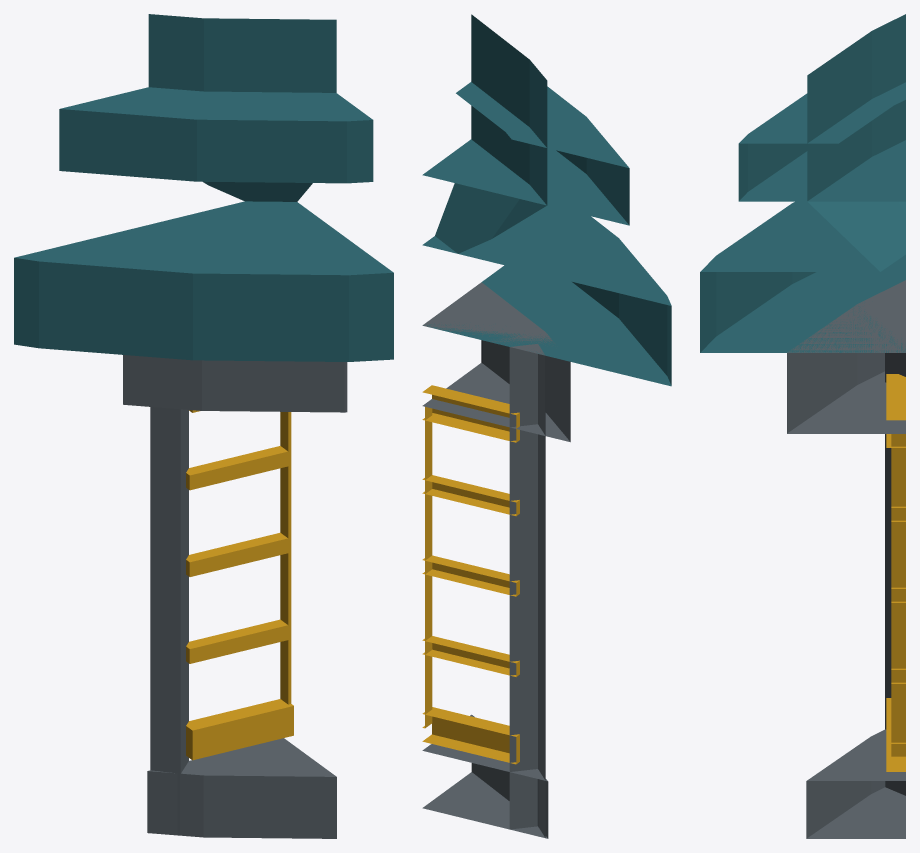
The model's file is cell_38.obj.
3 renders of one model, left to right at view 1: azimuth 30°, elevation 25°; view 2: azimuth 150°, elevation 25°; view 3: azimuth 270°, elevation 25°, orthographic. The views are drawn at different scales.
Bounding box in the file's own units: 0.2274 × 0.66 × 0.1613.
